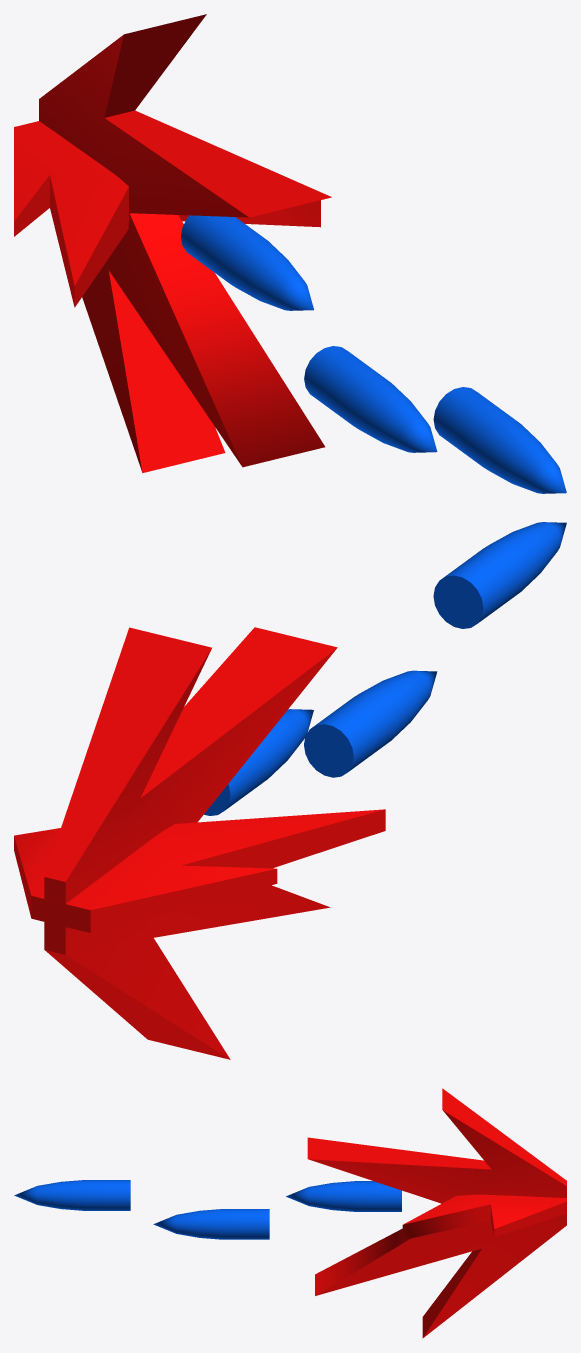
The model's file is AutomaticFire.FBX.
3 views of the same model, one above another, from view 1: azimuth 30°, elevation 25°; view 2: azimuth 150°, elevation 25°; view 3: azimuth 270°, elevation 25° (orthographic). The views are drawn at different scales.
Parts seen in each view (by area): view 1: Line001; view 2: Line001; view 3: Line001.
Boxes of the visible parts, x1=… form: Line001: x1=14, y1=14, x2=566, y2=493; Line001: x1=14, y1=522, x2=566, y2=1059; Line001: x1=14, y1=1088, x2=566, y2=1338.
Bounding box in the file's own units: 8.05 × 12.07 × 26.46.
